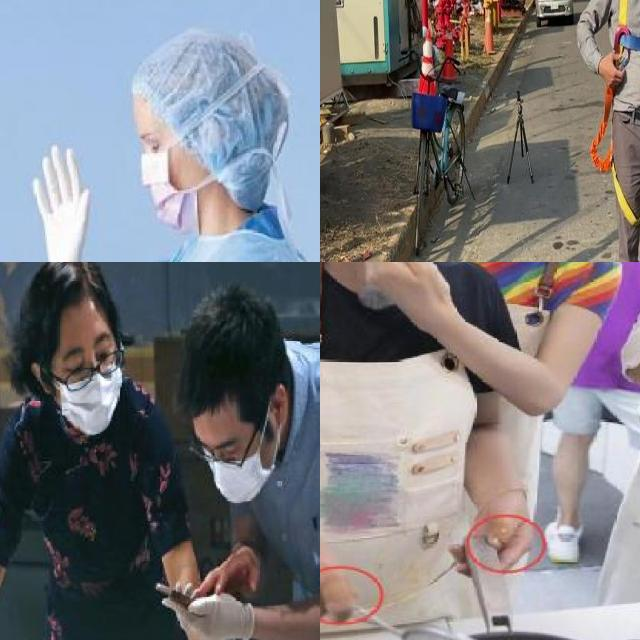Harness: (590, 86, 640, 226), (614, 0, 640, 53)
face_mask: (188, 392, 285, 505), (119, 111, 204, 235), (44, 308, 124, 437)
glasses: (58, 346, 129, 392), (185, 444, 247, 473)
hand_glove: (28, 139, 91, 262), (162, 580, 246, 640)
hand_noglove: (448, 507, 536, 581), (352, 262, 448, 308), (193, 545, 260, 597), (320, 544, 356, 624)
head_nohelmet: (105, 40, 282, 121), (167, 294, 260, 424), (26, 262, 129, 326)
person: (19, 0, 320, 262), (0, 262, 196, 640), (320, 262, 508, 630), (156, 287, 320, 640), (490, 262, 640, 581)
